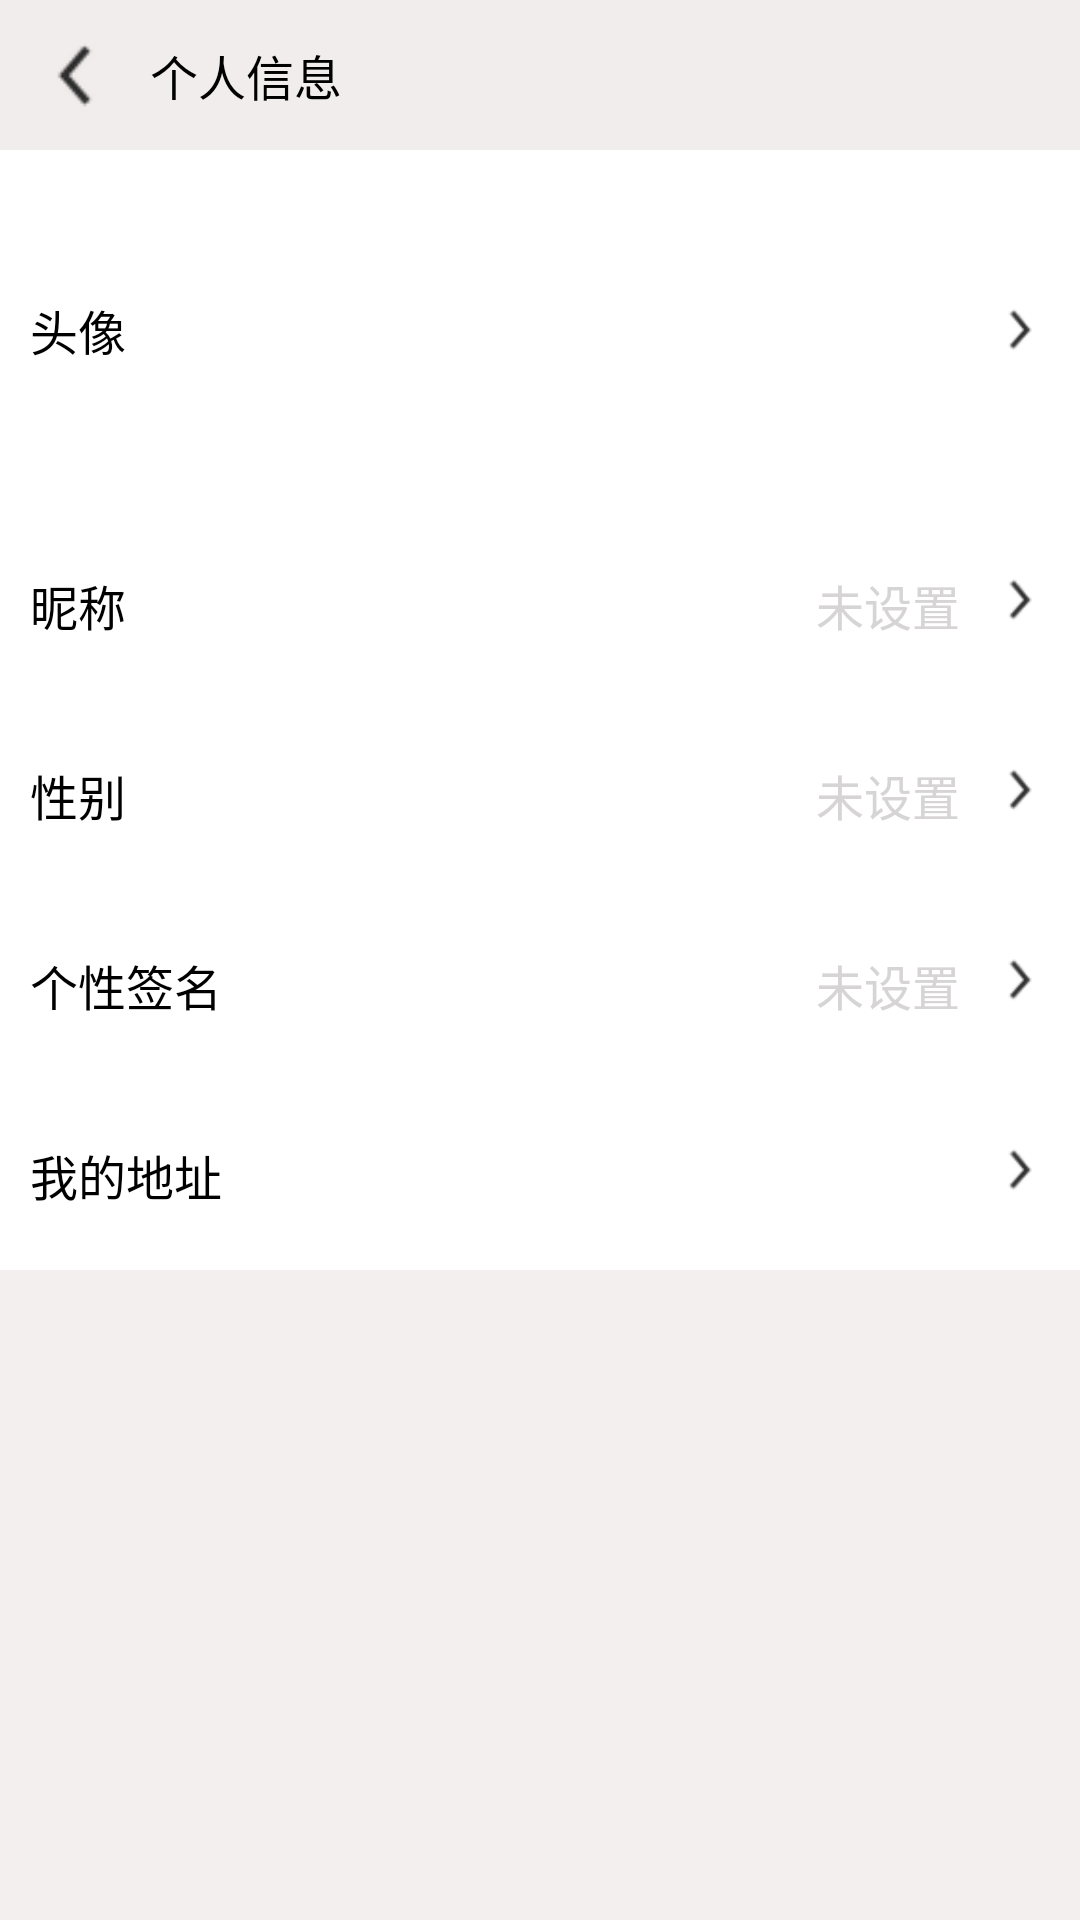

Where icons sit on this 1080×1920 app screen, as (x1, y1, x2, y2):
back: (58, 46, 91, 106)
right: (1010, 310, 1031, 349), (1010, 580, 1031, 619), (1010, 770, 1031, 809), (1010, 960, 1031, 999), (1010, 1150, 1031, 1189)
